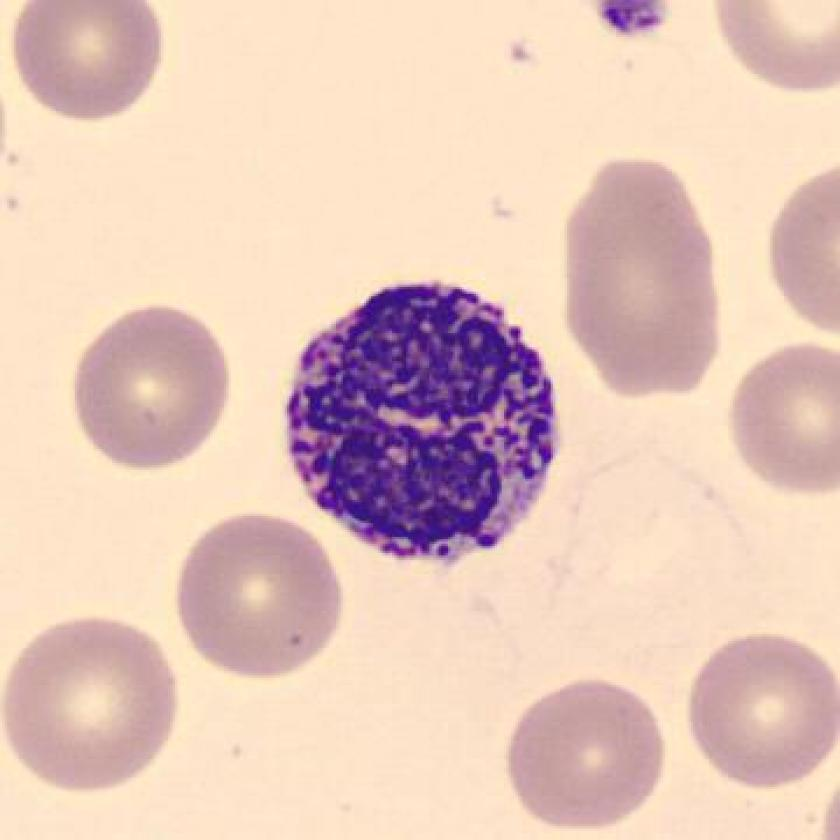basophil: (272, 274, 570, 584)
